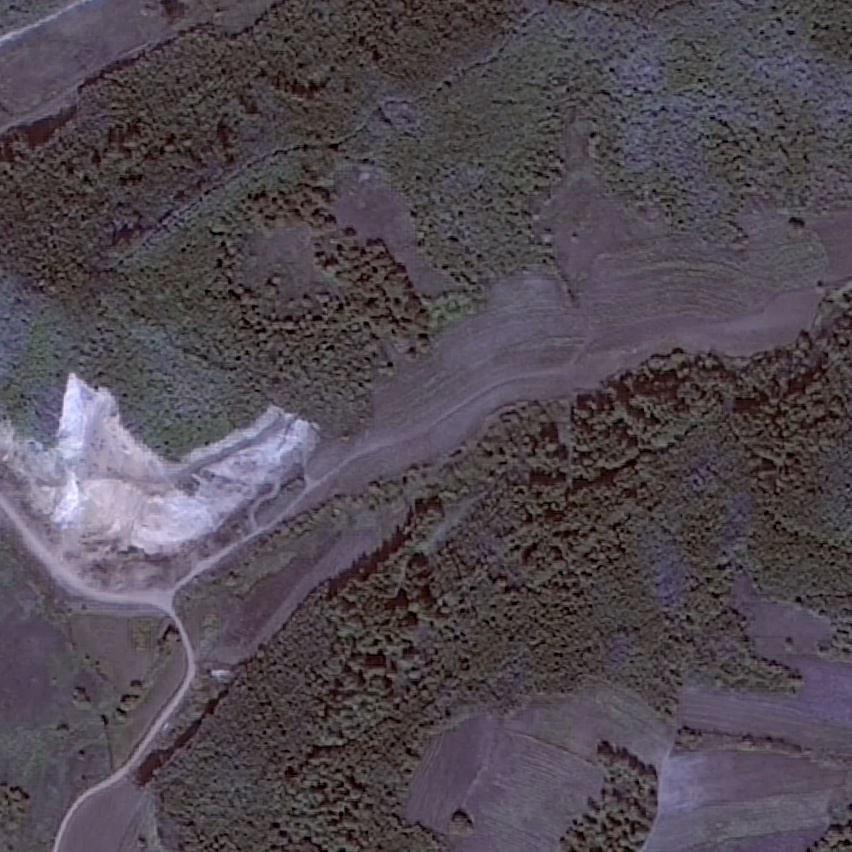slope: (0, 367, 312, 555)
